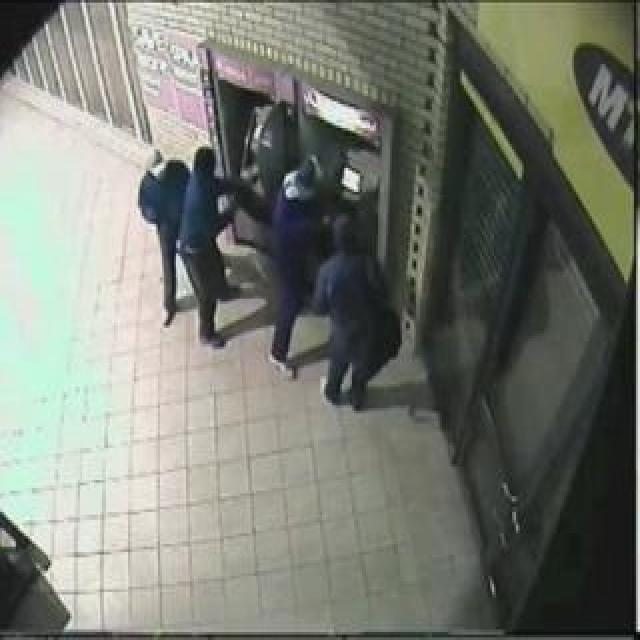thief: (132, 135, 390, 303)
